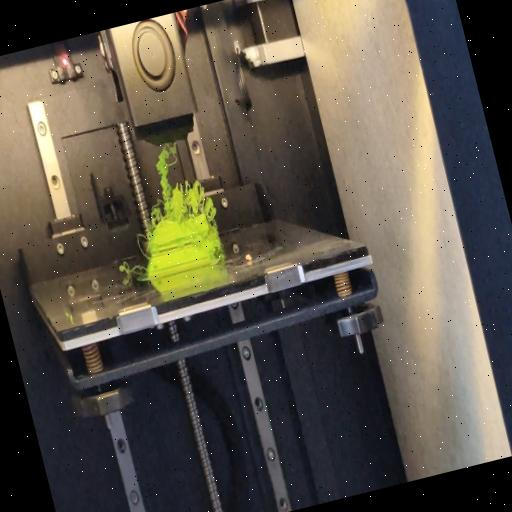spaghetti: (136, 136, 218, 232), (134, 228, 153, 258), (118, 258, 146, 276), (214, 250, 228, 267)
